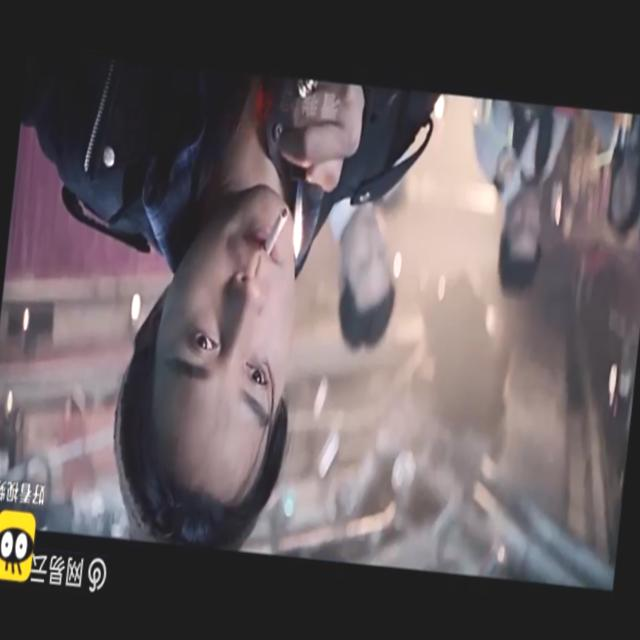cigarette: (261, 198, 289, 256)
